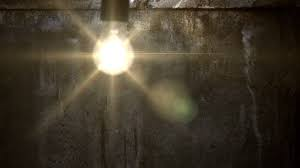bulb: (79, 10, 143, 88)
